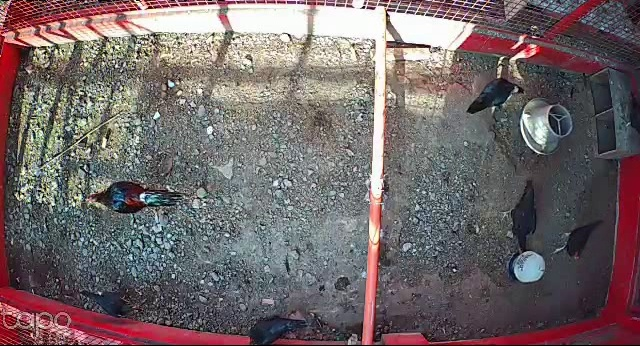Chicken: (501, 182, 542, 254), (464, 75, 528, 117), (550, 218, 605, 260), (79, 285, 144, 319), (248, 312, 307, 346)
Drinker: (506, 248, 546, 284)
Feeder: (519, 97, 575, 155)
Rooster: (84, 179, 191, 214)
